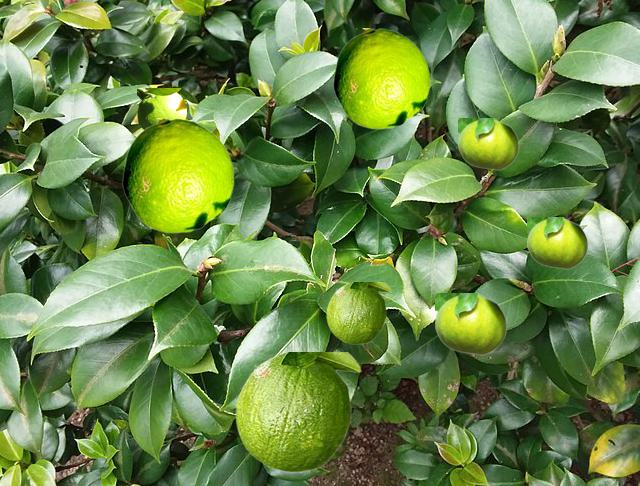dalandan: (235, 352, 360, 471), (122, 118, 233, 232), (333, 28, 429, 128), (435, 293, 506, 354), (326, 282, 390, 343), (527, 217, 587, 268), (458, 118, 518, 169), (137, 88, 185, 129)
